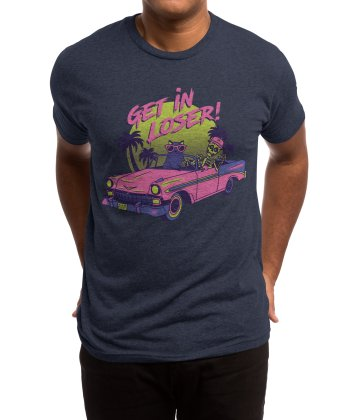design: (98, 82, 251, 226)
